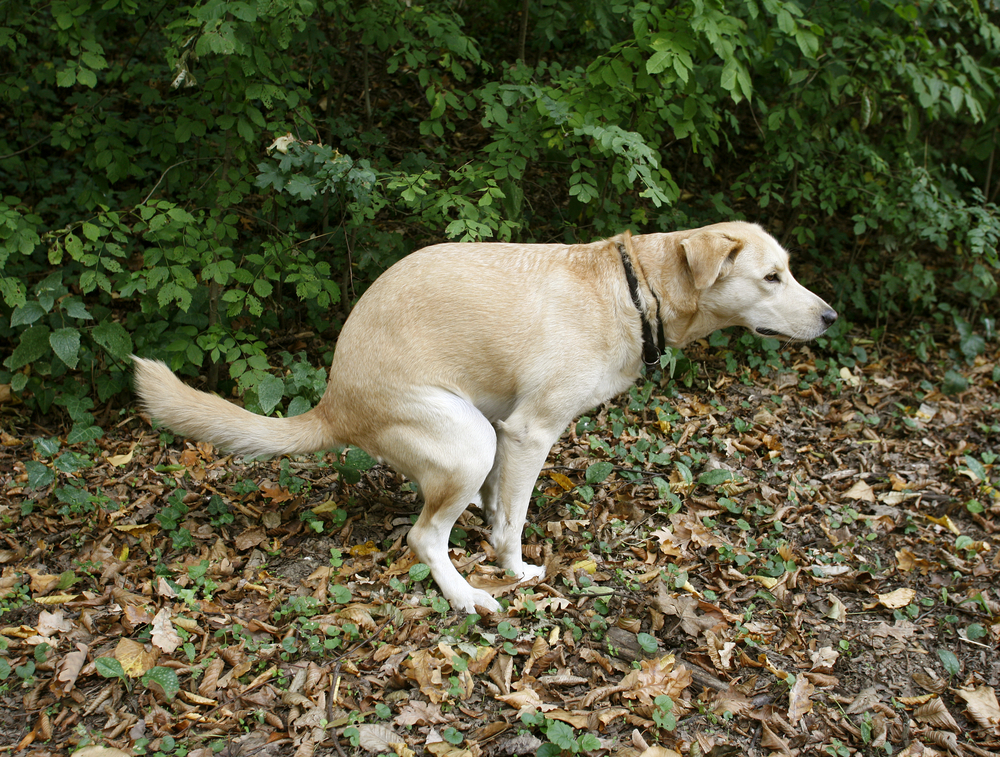dog_pooping: (121, 211, 843, 619)
